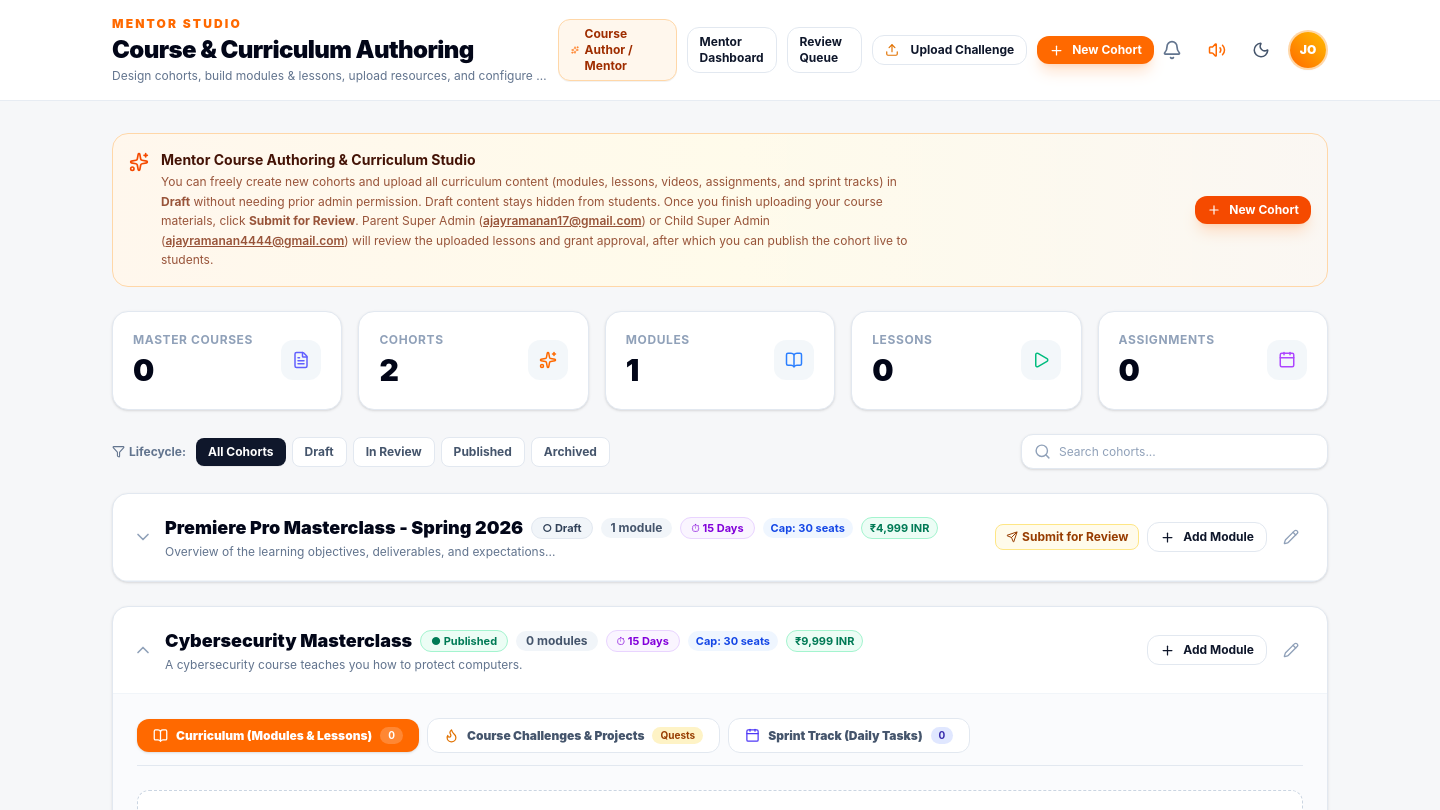
Scenario: Mentor Course Authoring Studio & Permission Gates › shows only Draft status for mentors in ModuleLessonModal and locks publishing until admin approval
expect the heading "Cybersecurity Masterclass" is shown: met, box [165,627,412,655]
Note: Click Add Module as a mentor
Click the 1st button "Add Module": (1207, 537) [1147,522,1267,552]
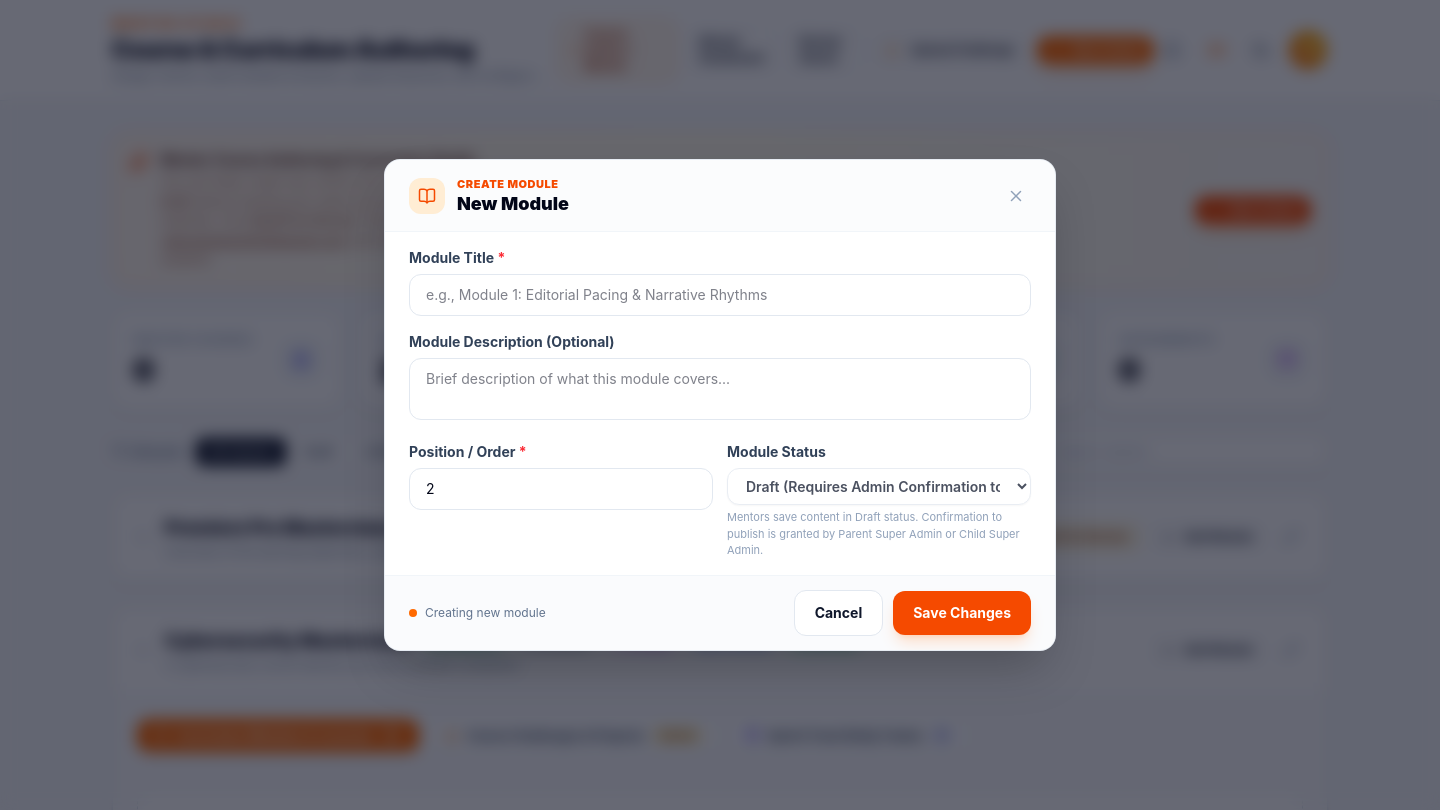
expect the text "Create module" is shown: met, box [457,176,569,193]
expect the field labelled "Module Title *" is shown: met, box [409,274,1031,316]
expect the dropdown is disabled: met, box [727,468,1031,505]
